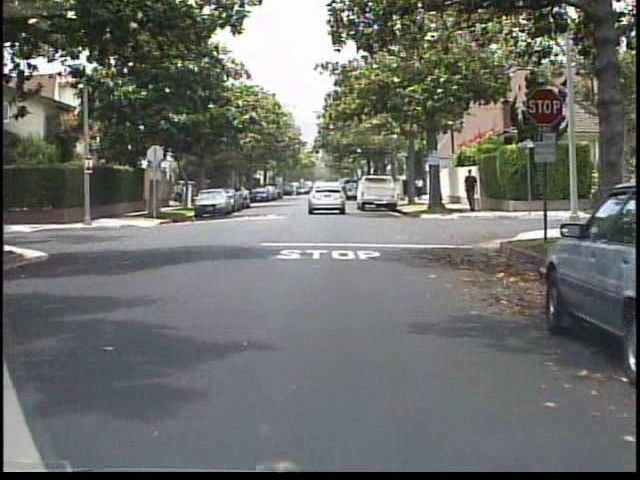person: (461, 165, 482, 215), (172, 179, 189, 208), (415, 171, 427, 202)
